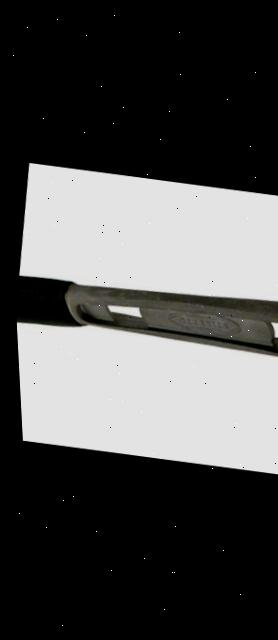hammer: (7, 161, 278, 477)
